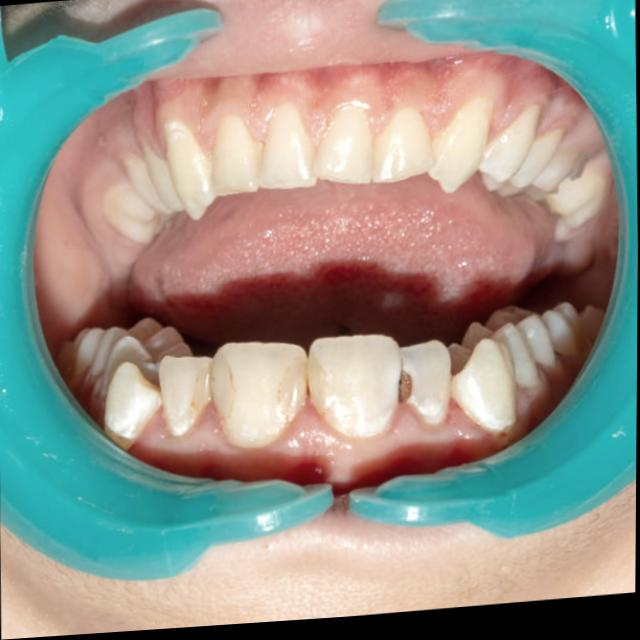cariess: (397, 370, 413, 404)
